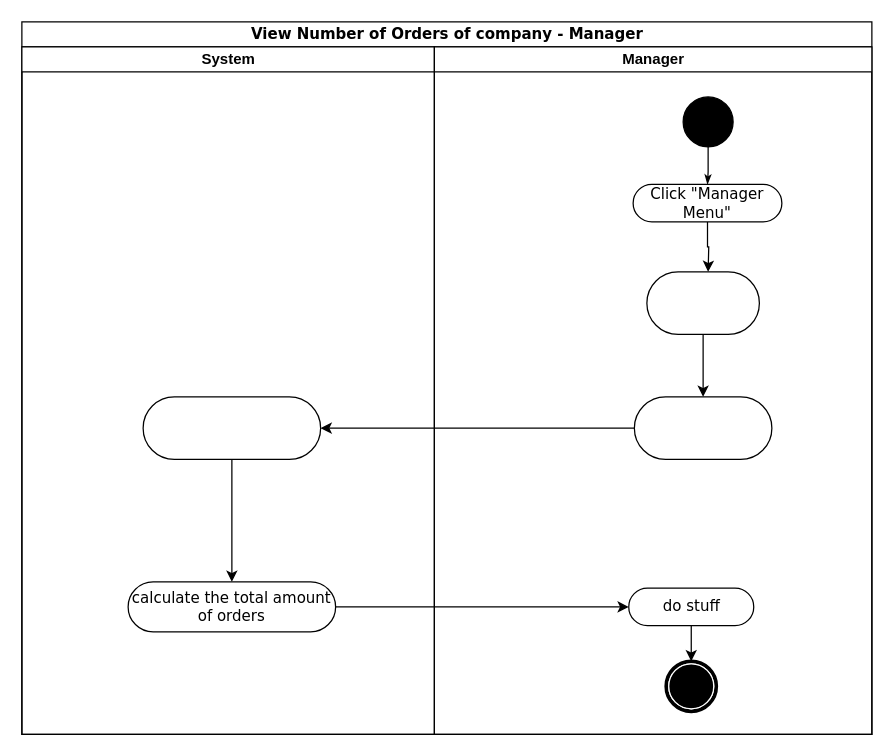
This 894x756 diagram has some shape labels left out. Here are the shapes that lost their labels. From the top down, the centre of each, then its label:
(x=702, y=302): Click "Show Companies"
(x=231, y=427): take the orders from the chosen company
(x=702, y=427): Click "Orders" on the company
